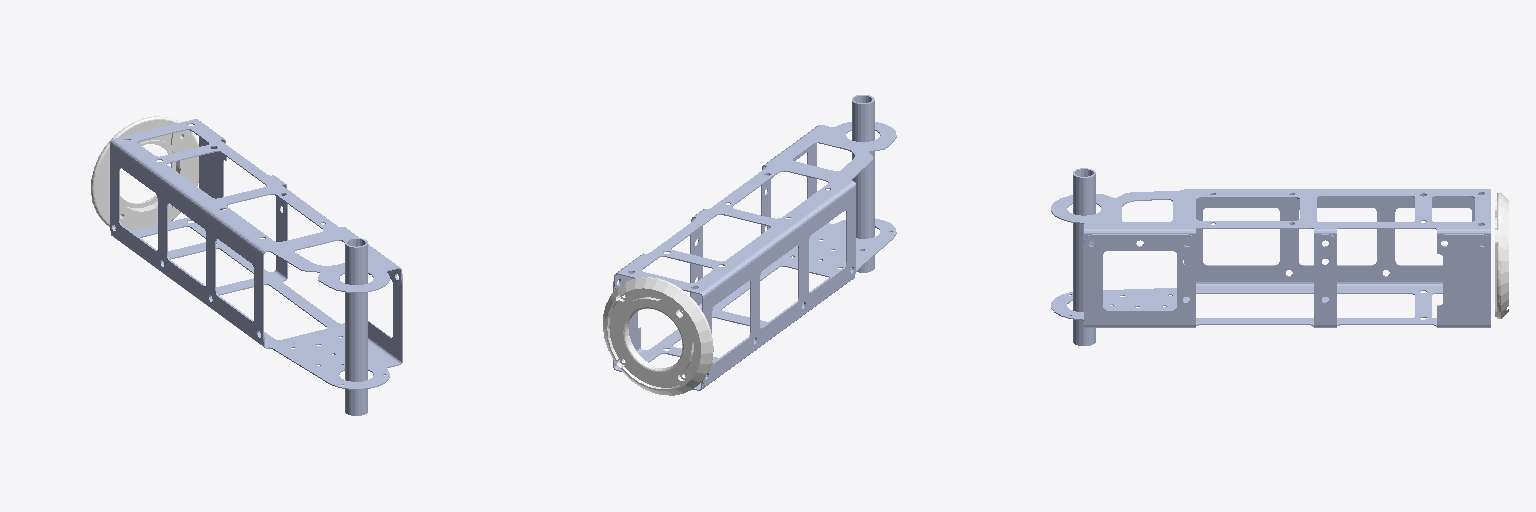
Rendered from UnterarmR_A.obj.
3 renders of one model, left to right at view 1: azimuth 30°, elevation 25°; view 2: azimuth 150°, elevation 25°; view 3: azimuth 270°, elevation 25°, orthographic.
Visible parts, largest first — view 1: Stamm|Minimal-UnterarmR_(Standard)|Unterarm_rechts-1|Arm_Unterar, Stamm|Minimal-UnterarmR_(Standard)|Unterarm_rechts-1|Arm_Handgel, Stamm|Minimal-UnterarmR_(Standard)|Unterarm_rechts-1|Arm_Achse-1; view 2: Stamm|Minimal-UnterarmR_(Standard)|Unterarm_rechts-1|Arm_Unterar, Stamm|Minimal-UnterarmR_(Standard)|Unterarm_rechts-1|Arm_Handgel, Stamm|Minimal-UnterarmR_(Standard)|Unterarm_rechts-1|Arm_Achse-1; view 3: Stamm|Minimal-UnterarmR_(Standard)|Unterarm_rechts-1|Arm_Unterar, Stamm|Minimal-UnterarmR_(Standard)|Unterarm_rechts-1|Arm_Achse-1, Stamm|Minimal-UnterarmR_(Standard)|Unterarm_rechts-1|Arm_Handgel.
Part boxes in pixels (bbox=[...]): Stamm|Minimal-UnterarmR_(Standard)|Unterarm_rechts-1|Arm_Unterar: bbox=[110, 119, 402, 389]; Stamm|Minimal-UnterarmR_(Standard)|Unterarm_rechts-1|Arm_Handgel: bbox=[91, 116, 198, 230]; Stamm|Minimal-UnterarmR_(Standard)|Unterarm_rechts-1|Arm_Achse-1: bbox=[345, 238, 367, 415]; Stamm|Minimal-UnterarmR_(Standard)|Unterarm_rechts-1|Arm_Unterar: bbox=[613, 122, 896, 390]; Stamm|Minimal-UnterarmR_(Standard)|Unterarm_rechts-1|Arm_Handgel: bbox=[603, 277, 713, 395]; Stamm|Minimal-UnterarmR_(Standard)|Unterarm_rechts-1|Arm_Achse-1: bbox=[852, 95, 874, 272]; Stamm|Minimal-UnterarmR_(Standard)|Unterarm_rechts-1|Arm_Unterar: bbox=[1051, 189, 1490, 327]; Stamm|Minimal-UnterarmR_(Standard)|Unterarm_rechts-1|Arm_Achse-1: bbox=[1073, 168, 1095, 345]; Stamm|Minimal-UnterarmR_(Standard)|Unterarm_rechts-1|Arm_Handgel: bbox=[1495, 193, 1508, 318].
Size of the model in its own units: 0.0545 by 0.08 by 0.197.